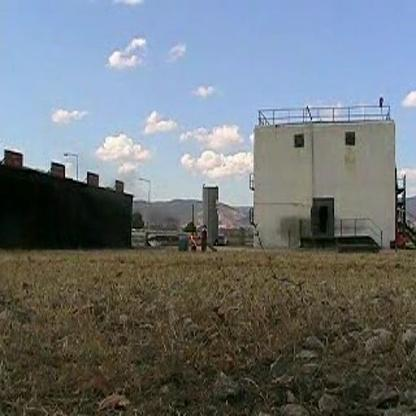Fire: (190, 234, 199, 244)
